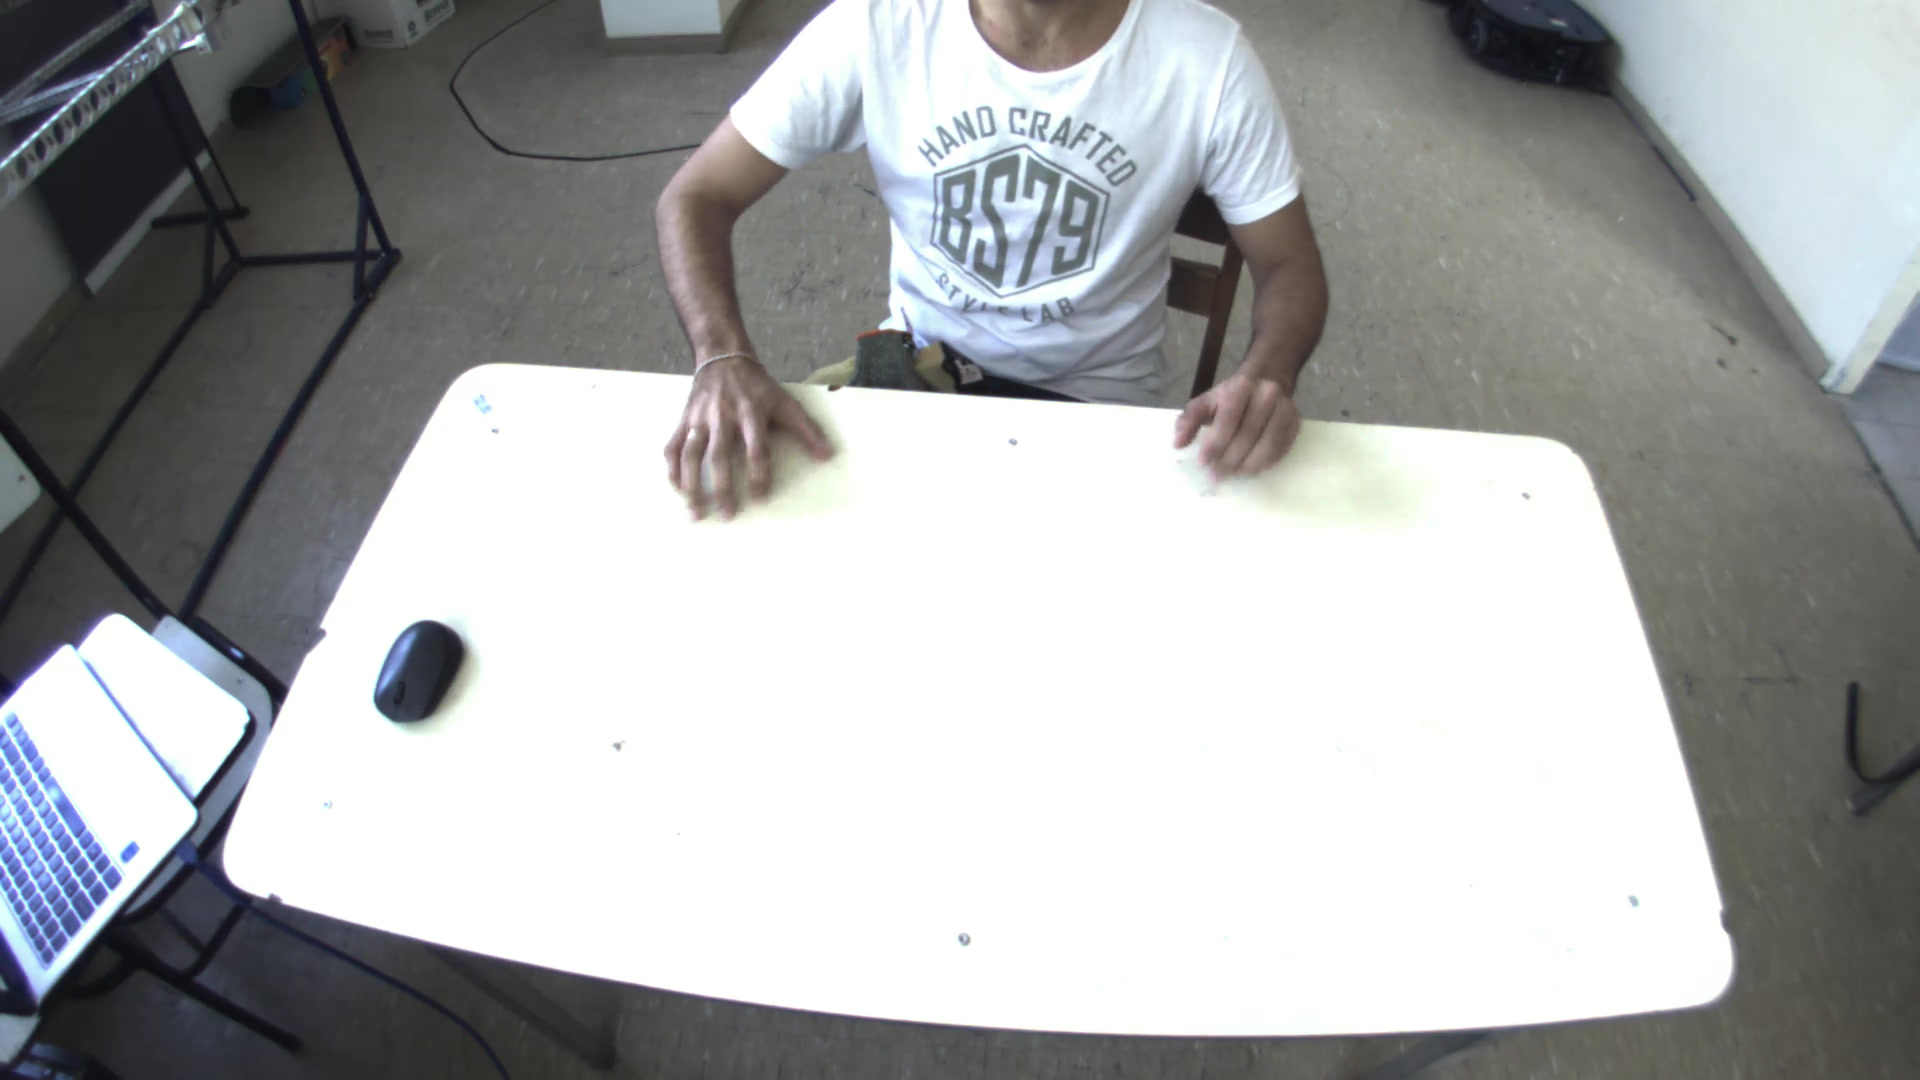hand: (649, 331, 844, 524), (1168, 353, 1317, 488)
